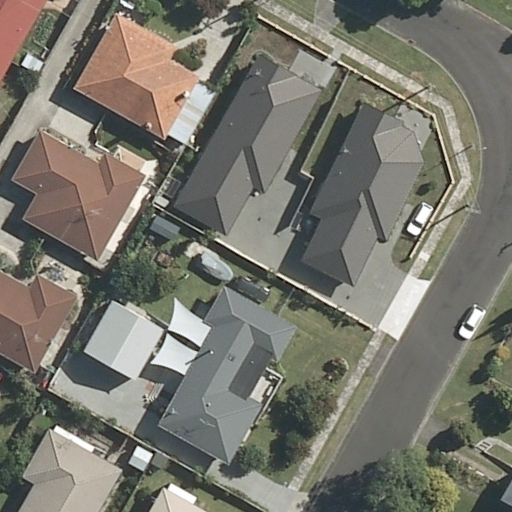DT: (418, 75, 439, 101), (461, 198, 485, 220)
